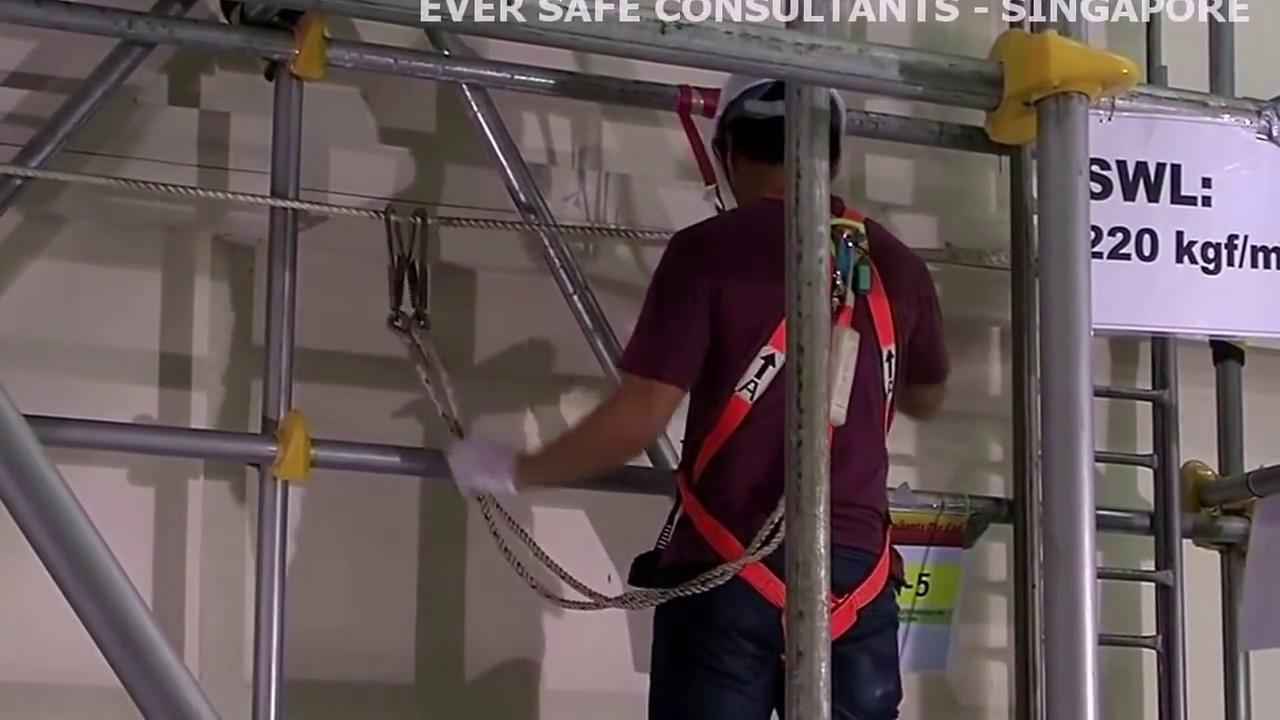harness: (717, 233, 902, 628)
helmet: (716, 74, 780, 109)
hook: (377, 199, 433, 328)
leash: (481, 509, 633, 615)
